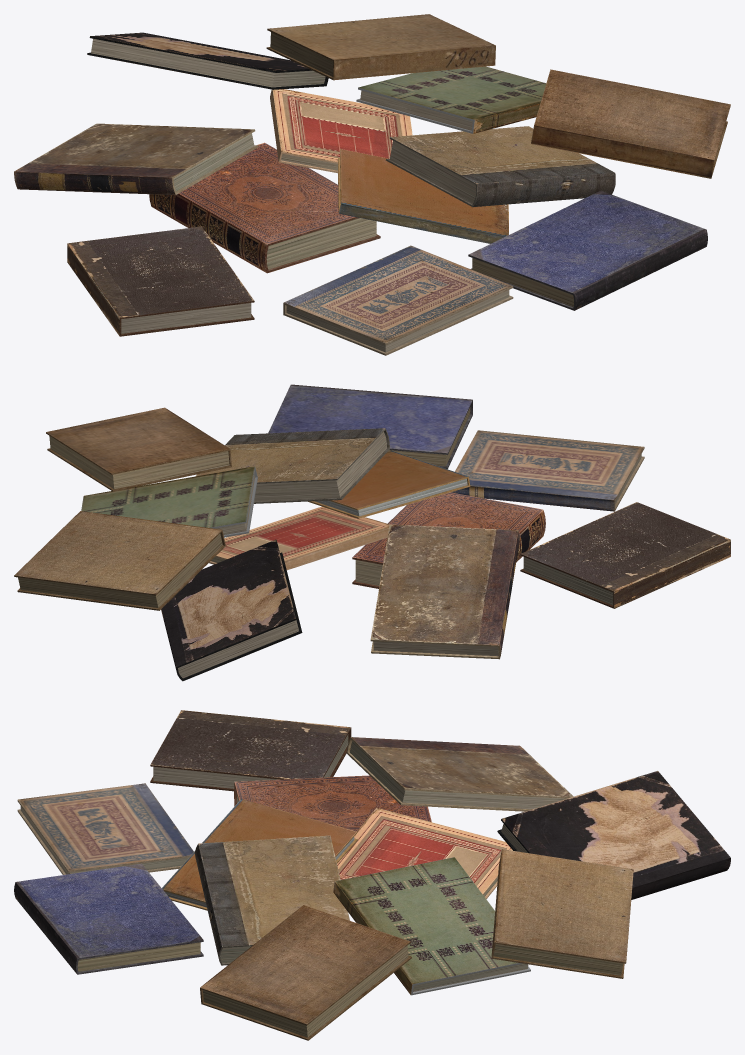
The model's file is book_pile.gltf.
3 views of the same model, one above another, from view 1: azimuth 30°, elevation 25°; view 2: azimuth 150°, elevation 25°; view 3: azimuth 270°, elevation 25° (orthographic). The views are drawn at different scales.
Visible parts, largest first — view 1: Book12, Book1, Book4, Book10, Book7, Book6, Book5, Book11, Book3, Book8, Book2, Book9; view 2: Book6, Book11, Book4, Book9, Book7, Book10, Book12, Book5, Book8, Book1, Book2, Book3; view 3: Book10, Book9, Book11, Book8, Book12, Book5, Book4, Book6, Book7, Book2, Book1, Book3.
Boxes of the visible parts, bbox=[...] form: Book12: bbox=[468, 190, 707, 310]; Book1: bbox=[149, 142, 380, 273]; Book4: bbox=[67, 226, 254, 336]; Book10: bbox=[531, 69, 730, 178]; Book7: bbox=[283, 245, 513, 355]; Book6: bbox=[14, 123, 258, 195]; Book5: bbox=[385, 126, 615, 207]; Book11: bbox=[266, 14, 495, 80]; Book3: bbox=[337, 149, 508, 243]; Book8: bbox=[356, 66, 546, 133]; Book2: bbox=[270, 89, 412, 173]; Book9: bbox=[87, 32, 328, 89]; Book6: bbox=[370, 524, 519, 659]; Book11: bbox=[14, 511, 225, 610]; Book4: bbox=[520, 502, 730, 608]; Book9: bbox=[161, 539, 302, 681]; Book7: bbox=[451, 430, 644, 511]; Book10: bbox=[46, 407, 231, 491]; Book12: bbox=[268, 384, 472, 469]; Book5: bbox=[195, 428, 389, 503]; Book8: bbox=[81, 466, 257, 537]; Book1: bbox=[352, 492, 545, 588]; Book2: bbox=[209, 506, 389, 570]; Book3: bbox=[308, 450, 470, 518]; Book10: bbox=[200, 905, 411, 1040]; Book9: bbox=[497, 771, 730, 899]; Book11: bbox=[491, 849, 633, 978]; Book8: bbox=[333, 857, 530, 995]; Book12: bbox=[14, 863, 203, 974]; Book5: bbox=[194, 835, 349, 965]; Book4: bbox=[150, 710, 351, 791]; Book6: bbox=[346, 737, 573, 811]; Book7: bbox=[17, 783, 193, 874]; Book2: bbox=[337, 807, 512, 898]; Book1: bbox=[234, 775, 431, 831]; Book3: bbox=[162, 799, 357, 910].
Size of the model in its own units: 1.21 by 0.1073 by 1.16.
12 materials, 12 textured.
